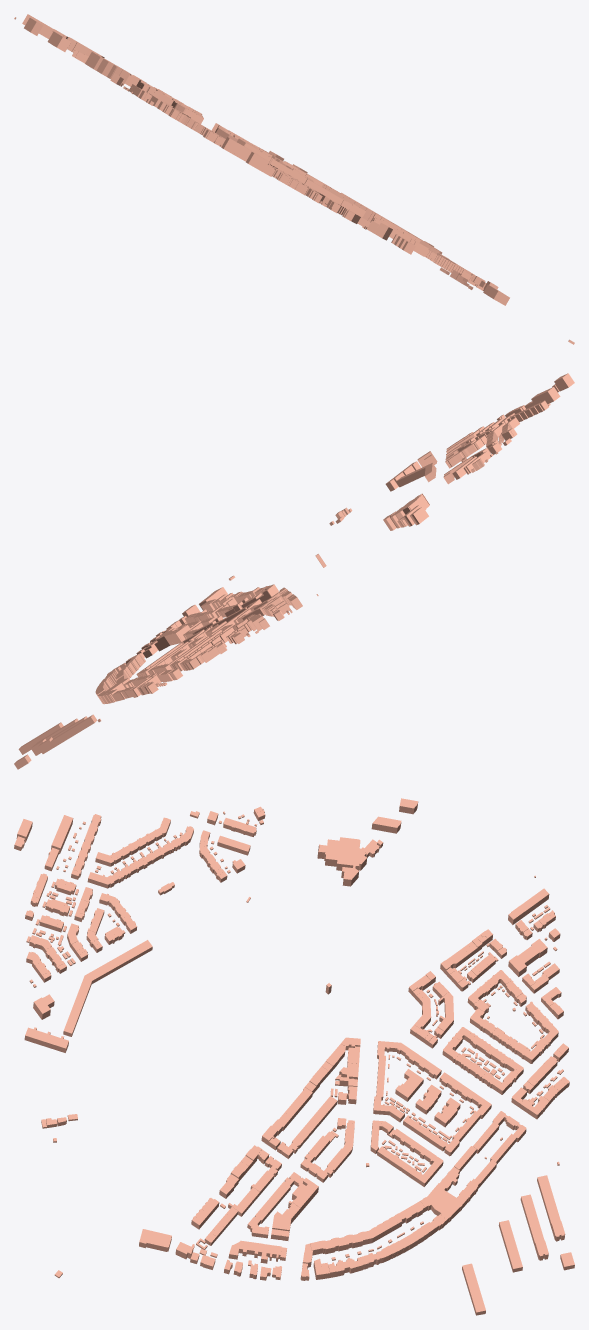
3 renders of one model, top to bottom at view 1: azimuth 30°, elevation 25°; view 2: azimuth 150°, elevation 25°; view 3: azimuth 270°, elevation 25°, orthographic. The views are drawn at different scales.
Size of the model in its own units: 519 by 410 by 634.
